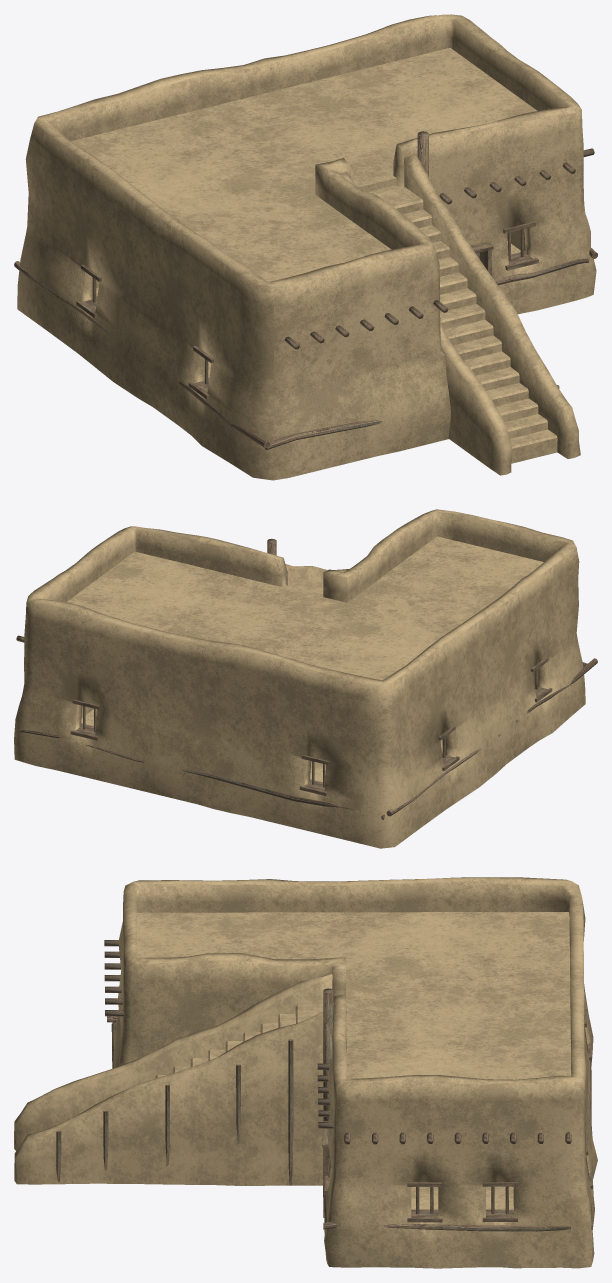
The model's file is egypt_house_003.glb.
The picture shows the model from 3 angles, top to bottom: view 1: azimuth 30°, elevation 25°; view 2: azimuth 150°, elevation 25°; view 3: azimuth 270°, elevation 25°; orthographic projection. The views are drawn at different scales.
Visible parts, largest first — view 1: walls, roof; view 2: walls, roof; view 3: walls, roof.
Boxes of the visible parts, x1,y1,x2,y2 form: walls: [14, 133, 597, 480]; roof: [26, 14, 583, 326]; walls: [14, 540, 597, 848]; roof: [24, 509, 579, 719]; walls: [14, 921, 597, 1268]; roof: [119, 877, 588, 1121].
Bounding box in the file's own units: 8.73 × 3.69 × 9.97.
2 materials, 2 textured.
